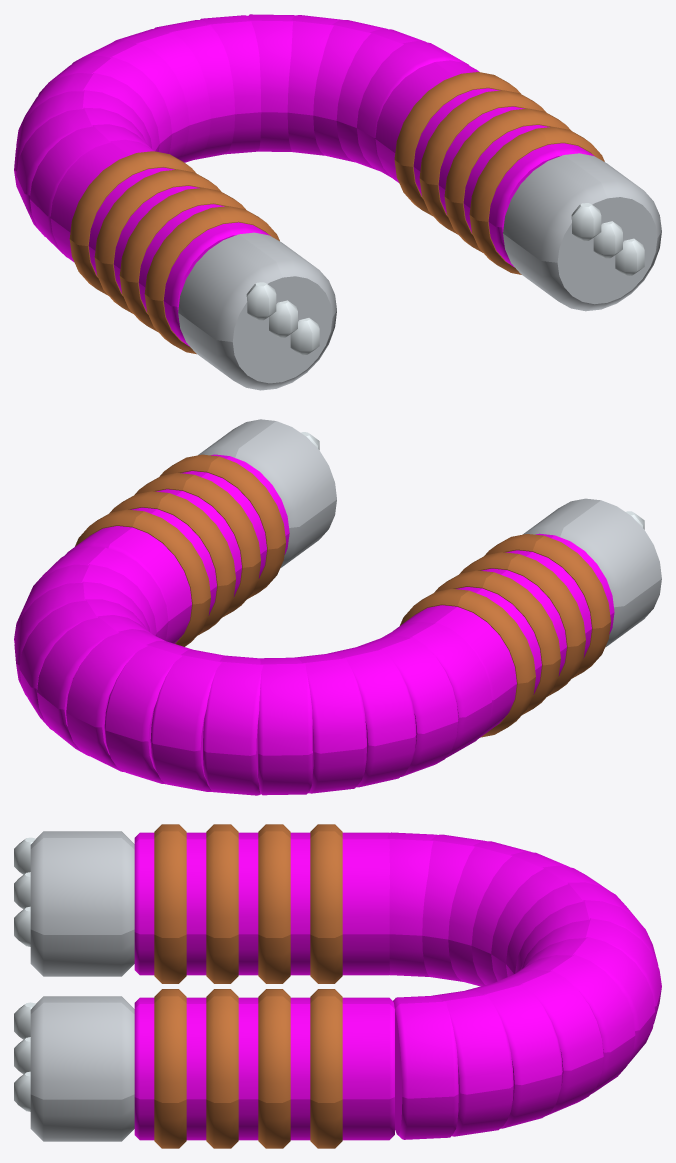
The model's file is objet_aimant_supra.glb.
The picture shows the model from 3 angles, top to bottom: view 1: azimuth 30°, elevation 25°; view 2: azimuth 150°, elevation 25°; view 3: azimuth 270°, elevation 25°; orthographic projection. The views are drawn at different scales.
Parts seen in each view (by area): view 1: aimant_teinte.002, aimant_composant_clair.002, aimant_cuivre.002, aimant_givre.002; view 2: aimant_teinte.002, aimant_cuivre.002, aimant_composant_clair.002; view 3: aimant_teinte.002, aimant_cuivre.002, aimant_composant_clair.002, aimant_givre.002.
Boxes of the visible parts, bbox=[...] form: aimant_teinte.002: bbox=[14, 14, 595, 346]; aimant_composant_clair.002: bbox=[178, 153, 661, 390]; aimant_cuivre.002: bbox=[69, 72, 604, 354]; aimant_givre.002: bbox=[246, 203, 644, 355]; aimant_teinte.002: bbox=[14, 454, 614, 795]; aimant_cuivre.002: bbox=[75, 454, 610, 737]; aimant_composant_clair.002: bbox=[198, 419, 661, 647]; aimant_teinte.002: bbox=[134, 832, 661, 1140]; aimant_cuivre.002: bbox=[154, 824, 342, 1148]; aimant_composant_clair.002: bbox=[30, 831, 134, 1141]; aimant_givre.002: bbox=[14, 837, 35, 1111].
Size of the model in its own units: 0.2116 by 0.0616 by 0.249.
